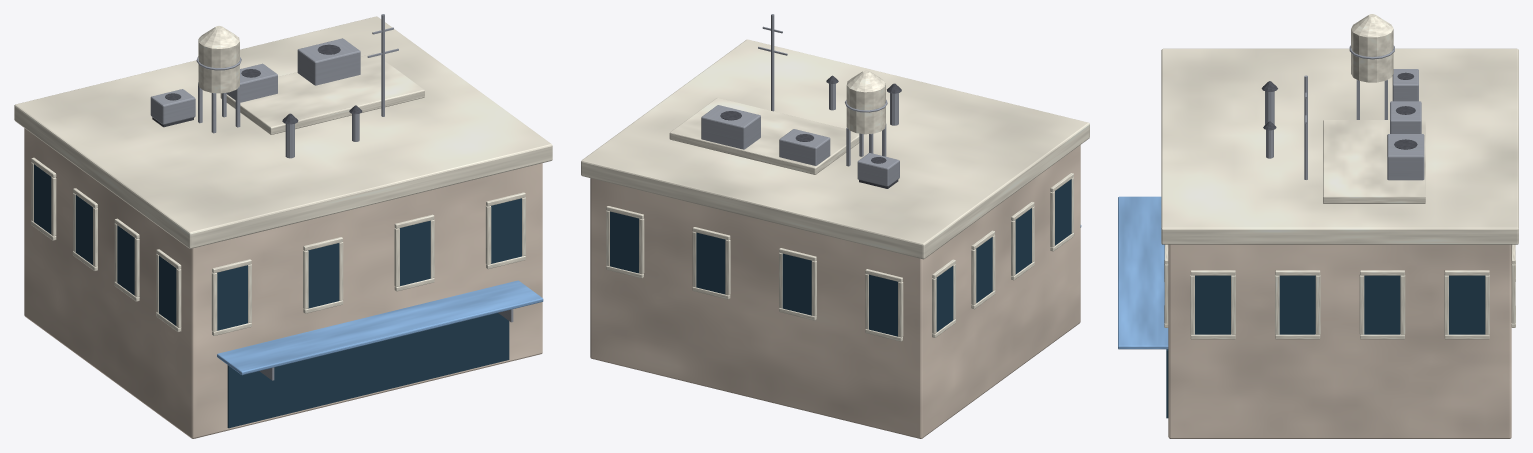
The model's file is bldg_loft_showcase.glb.
3 renders of one model, left to right at view 1: azimuth 30°, elevation 25°; view 2: azimuth 150°, elevation 25°; view 3: azimuth 270°, elevation 25°, orthographic. The views are drawn at different scales.
Visible parts, largest first — view 1: bldg_loft_showcase_body, bldg_loft_showcase_parapet, bldg_loft_showcase_shopfront, bldg_loft_showcase_awning, bldg_loft_showcase_roof_curb, bldg_loft_showcase_ac_2_case, bldg_loft_showcase_upper_back_1_glass, bldg_loft_showcase_upper_back_0_glass, bldg_loft_showcase_upper_back_2_glass, bldg_loft_showcase_upper_back_3_glass, bldg_loft_showcase_tank_a_barrel, bldg_loft_showcase_ac_0_case (+6 smaller); view 2: bldg_loft_showcase_body, bldg_loft_showcase_parapet, bldg_loft_showcase_roof_curb, bldg_loft_showcase_ac_2_case, bldg_loft_showcase_upper_front_2_glass, bldg_loft_showcase_upper_front_1_glass, bldg_loft_showcase_tank_a_barrel, bldg_loft_showcase_upper_front_3_glass, bldg_loft_showcase_upper_front_0_glass, bldg_loft_showcase_ac_1_case, bldg_loft_showcase_ac_0_case, bldg_loft_showcase_upper_right_3_glass (+4 smaller); view 3: bldg_loft_showcase_parapet, bldg_loft_showcase_body, bldg_loft_showcase_awning, bldg_loft_showcase_roof_curb, bldg_loft_showcase_upper_left_1_glass, bldg_loft_showcase_upper_left_2_glass, bldg_loft_showcase_upper_left_3_glass, bldg_loft_showcase_upper_left_0_glass, bldg_loft_showcase_tank_a_barrel, bldg_loft_showcase_ac_2_case, bldg_loft_showcase_ac_1_case, bldg_loft_showcase_ac_0_case (+2 smaller).
Part boxes in pixels (bbox=[...]): bldg_loft_showcase_body: bbox=[24, 128, 542, 438]; bldg_loft_showcase_parapet: bbox=[14, 16, 552, 248]; bldg_loft_showcase_shopfront: bbox=[227, 313, 509, 428]; bldg_loft_showcase_awning: bbox=[217, 280, 543, 375]; bldg_loft_showcase_roof_curb: bbox=[220, 53, 424, 134]; bldg_loft_showcase_ac_2_case: bbox=[297, 38, 360, 85]; bldg_loft_showcase_upper_back_1_glass: bbox=[308, 243, 339, 308]; bldg_loft_showcase_upper_back_0_glass: bbox=[217, 265, 247, 330]; bldg_loft_showcase_upper_back_2_glass: bbox=[399, 220, 430, 285]; bldg_loft_showcase_upper_back_3_glass: bbox=[491, 198, 521, 263]; bldg_loft_showcase_tank_a_barrel: bbox=[198, 39, 239, 93]; bldg_loft_showcase_ac_0_case: bbox=[150, 89, 195, 124]; bldg_loft_showcase_body: bbox=[590, 145, 1080, 438]; bldg_loft_showcase_parapet: bbox=[581, 39, 1089, 259]; bldg_loft_showcase_roof_curb: bbox=[669, 98, 859, 174]; bldg_loft_showcase_ac_2_case: bbox=[701, 105, 760, 149]; bldg_loft_showcase_upper_front_2_glass: bbox=[696, 232, 725, 294]; bldg_loft_showcase_upper_front_1_glass: bbox=[782, 253, 811, 315]; bldg_loft_showcase_tank_a_barrel: bbox=[846, 83, 885, 134]; bldg_loft_showcase_upper_front_3_glass: bbox=[610, 211, 638, 273]; bldg_loft_showcase_upper_front_0_glass: bbox=[869, 274, 897, 336]; bldg_loft_showcase_ac_1_case: bbox=[779, 129, 830, 165]; bldg_loft_showcase_ac_0_case: bbox=[857, 153, 899, 186]; bldg_loft_showcase_upper_right_3_glass: bbox=[936, 266, 953, 331]; bldg_loft_showcase_parapet: bbox=[1161, 48, 1518, 244]; bldg_loft_showcase_body: bbox=[1168, 244, 1511, 438]; bldg_loft_showcase_awning: bbox=[1118, 196, 1168, 349]; bldg_loft_showcase_roof_curb: bbox=[1323, 120, 1425, 203]; bldg_loft_showcase_upper_left_1_glass: bbox=[1279, 275, 1315, 334]; bldg_loft_showcase_upper_left_2_glass: bbox=[1364, 275, 1400, 334]; bldg_loft_showcase_upper_left_3_glass: bbox=[1449, 275, 1485, 334]; bldg_loft_showcase_upper_left_0_glass: bbox=[1195, 275, 1230, 334]; bldg_loft_showcase_tank_a_barrel: bbox=[1351, 29, 1393, 82]; bldg_loft_showcase_ac_2_case: bbox=[1387, 134, 1424, 180]; bldg_loft_showcase_ac_1_case: bbox=[1390, 101, 1421, 133]; bldg_loft_showcase_ac_0_case: bbox=[1392, 69, 1418, 101].
Size of the model in its own units: 12.42 by 10.21 by 11.68.
6 materials, 6 textured.
